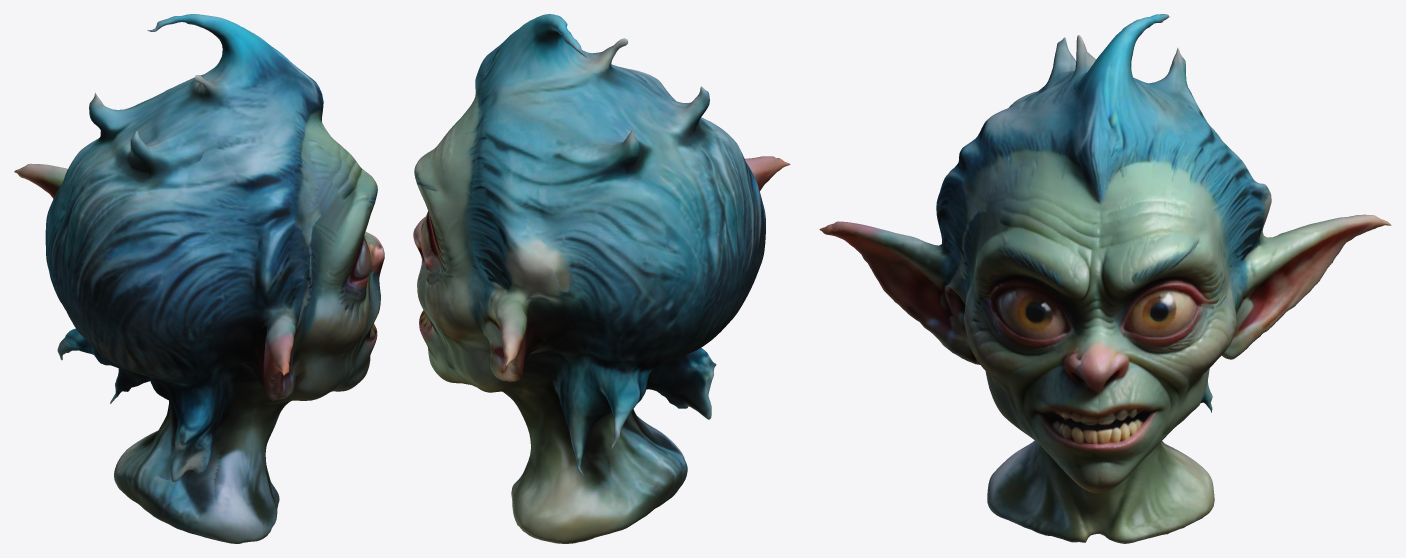
The model's file is rendered_model_9.glb.
3 renders of one model, left to right at view 1: azimuth 30°, elevation 25°; view 2: azimuth 150°, elevation 25°; view 3: azimuth 270°, elevation 25°, orthographic. The views are drawn at different scales.
Visible parts, largest first — view 1: geometry_0; view 2: geometry_0; view 3: geometry_0.
Part boxes in pixels (x1=…): geometry_0: x1=14, y1=14, x2=384, y2=543; geometry_0: x1=413, y1=14, x2=790, y2=543; geometry_0: x1=819, y1=14, x2=1391, y2=543.
Size of the model in its own units: 0.5365 by 0.7792 by 0.8064.
1 material, 1 textured.
